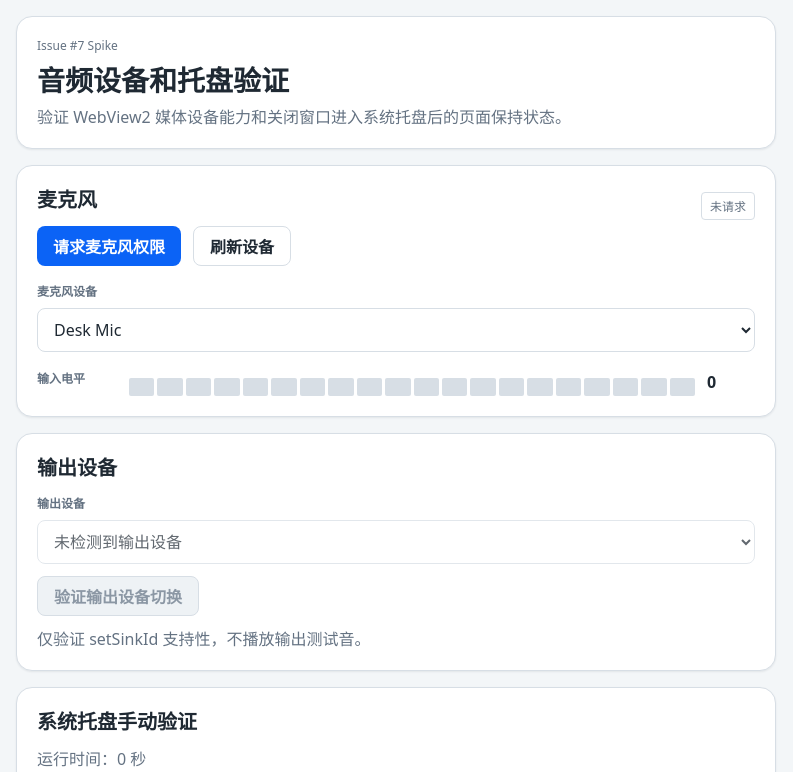
DeviceTraySpike › ignores stale microphone requests that resolve after a newer selection
Click the button "请求麦克风权限" at coordinates (109, 246), box [37,226,181,266]
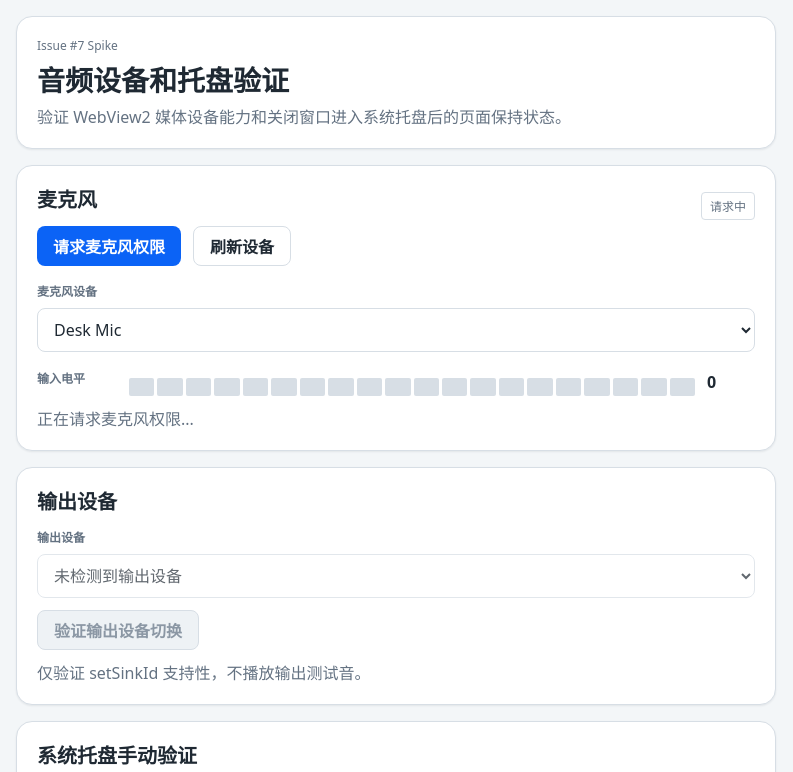
Select "Headset Mic" in the dropdown labelled "麦克风设备" at coordinates (396, 330), box [37,308,755,352]
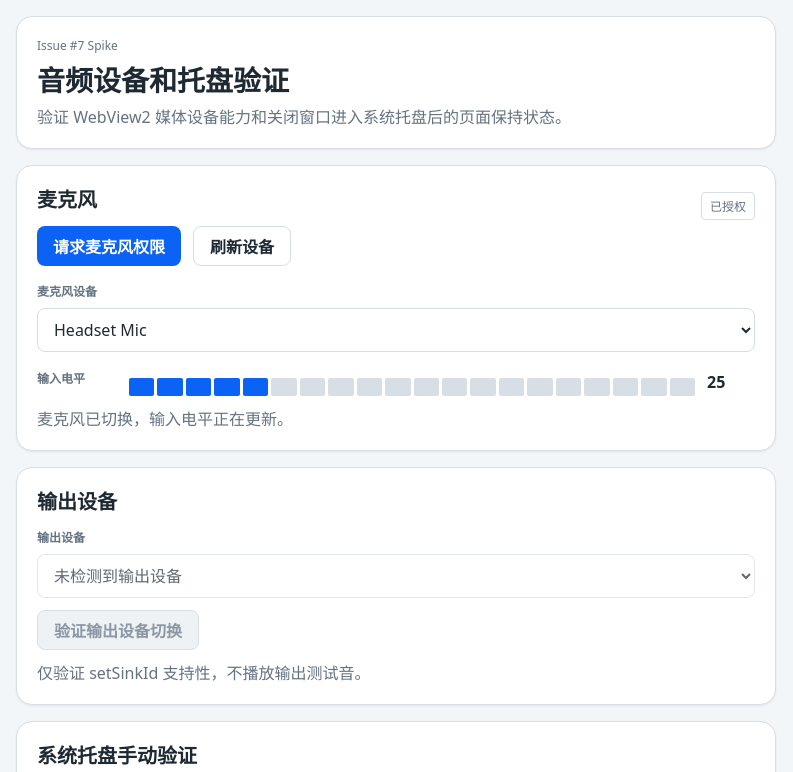
Expected: the text "麦克风已切换，输入电平正在更新。" is shown, [37,408,293,430]
